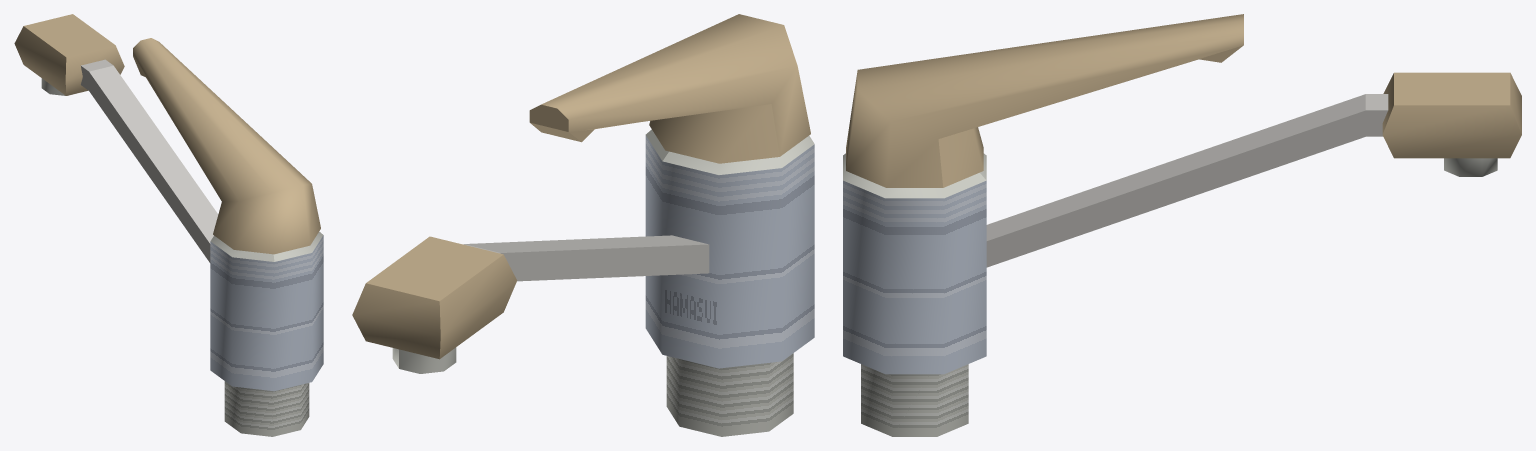
The model's file is 053a_Faucet.glb.
3 views of the same model, side by side, from view 1: azimuth 30°, elevation 25°; view 2: azimuth 150°, elevation 25°; view 3: azimuth 270°, elevation 25° (orthographic). The views are drawn at different scales.
Visible parts, largest first — view 1: part_0; view 2: part_0; view 3: part_0.
Part boxes in pixels (box(x1,y1,x2,y2)): part_0: box(14, 14, 323, 436); part_0: box(352, 14, 814, 436); part_0: box(843, 14, 1521, 436).
Bounding box in the file's own units: 0.0739 × 0.2255 × 0.3497.
1 material, 1 textured.
